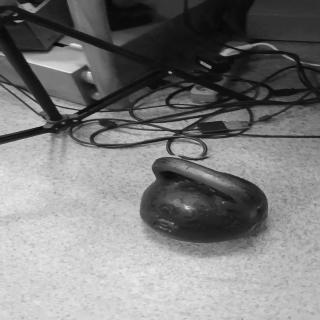kettlebell: (140, 156, 270, 244)
